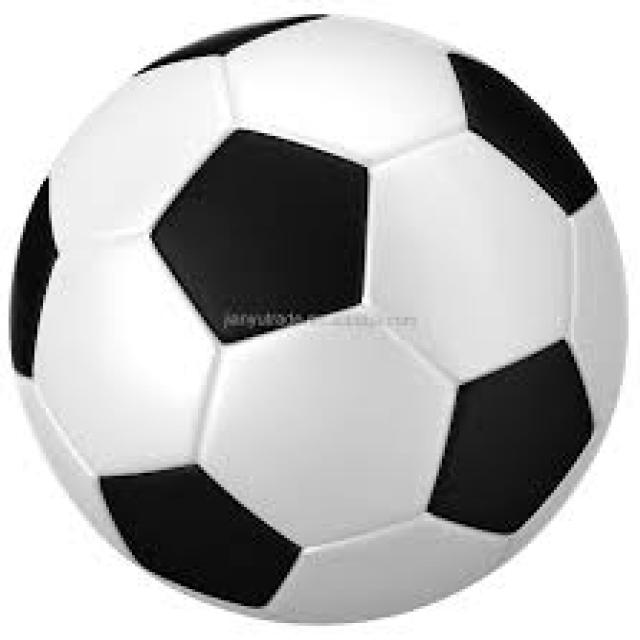ball: (8, 21, 630, 620)
